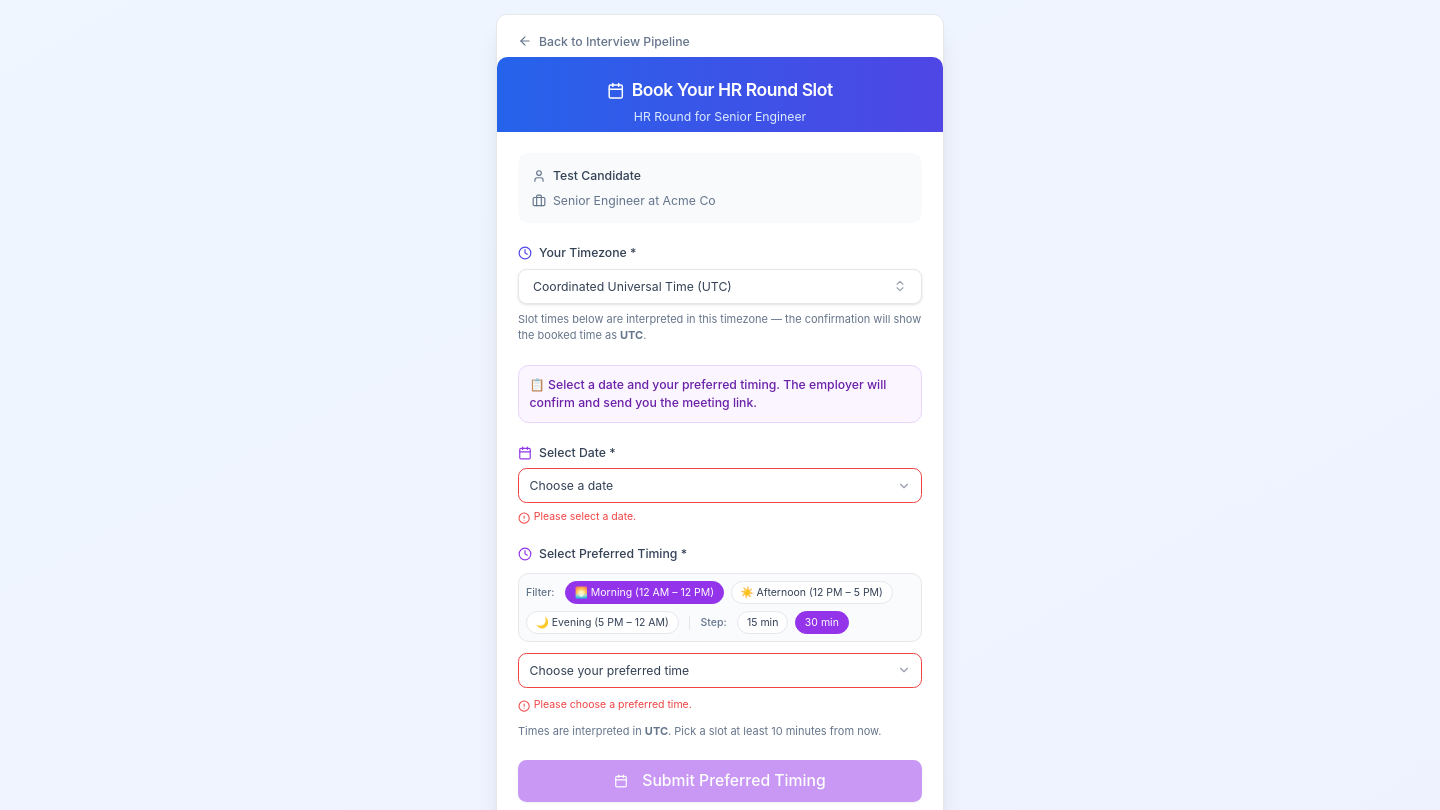
Test: BookSlot — multi-slot HR Round flow › requires a date and a single preferred timing, and shows it on the confirmation
This screenshot has width=1440, height=810.
Expected: the text "Book Your HR Round Slot" is shown, top-left (607, 79), bottom-right (833, 100)
Expected: the button "Submit Preferred Timing" is disabled, top-left (518, 760), bottom-right (922, 802)
Click the dropdown "Choose a date": [571, 486] box top-left (518, 468), bottom-right (922, 503)
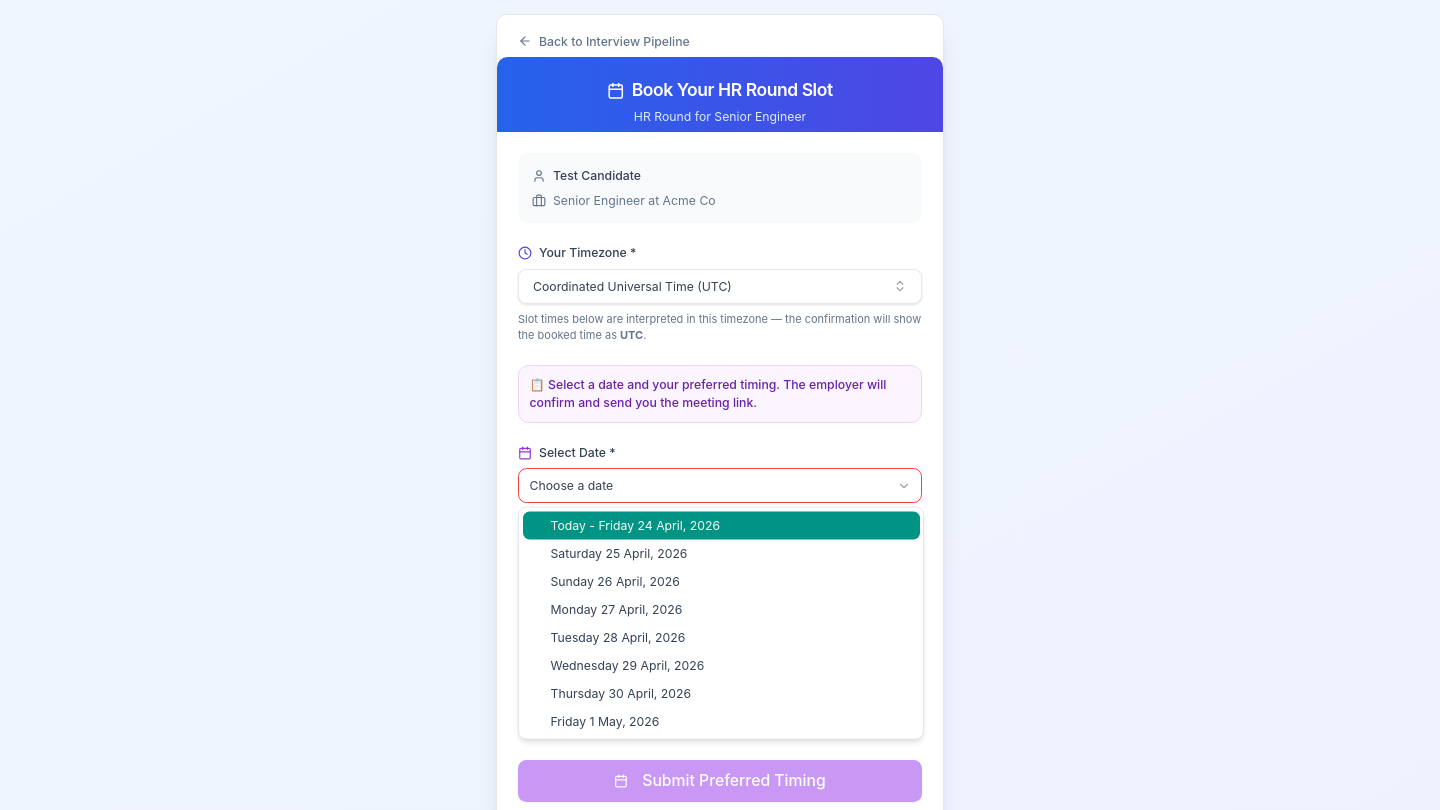
Click the option "Today - Friday 24 April, 2026": [721, 525] box top-left (522, 511), bottom-right (920, 539)
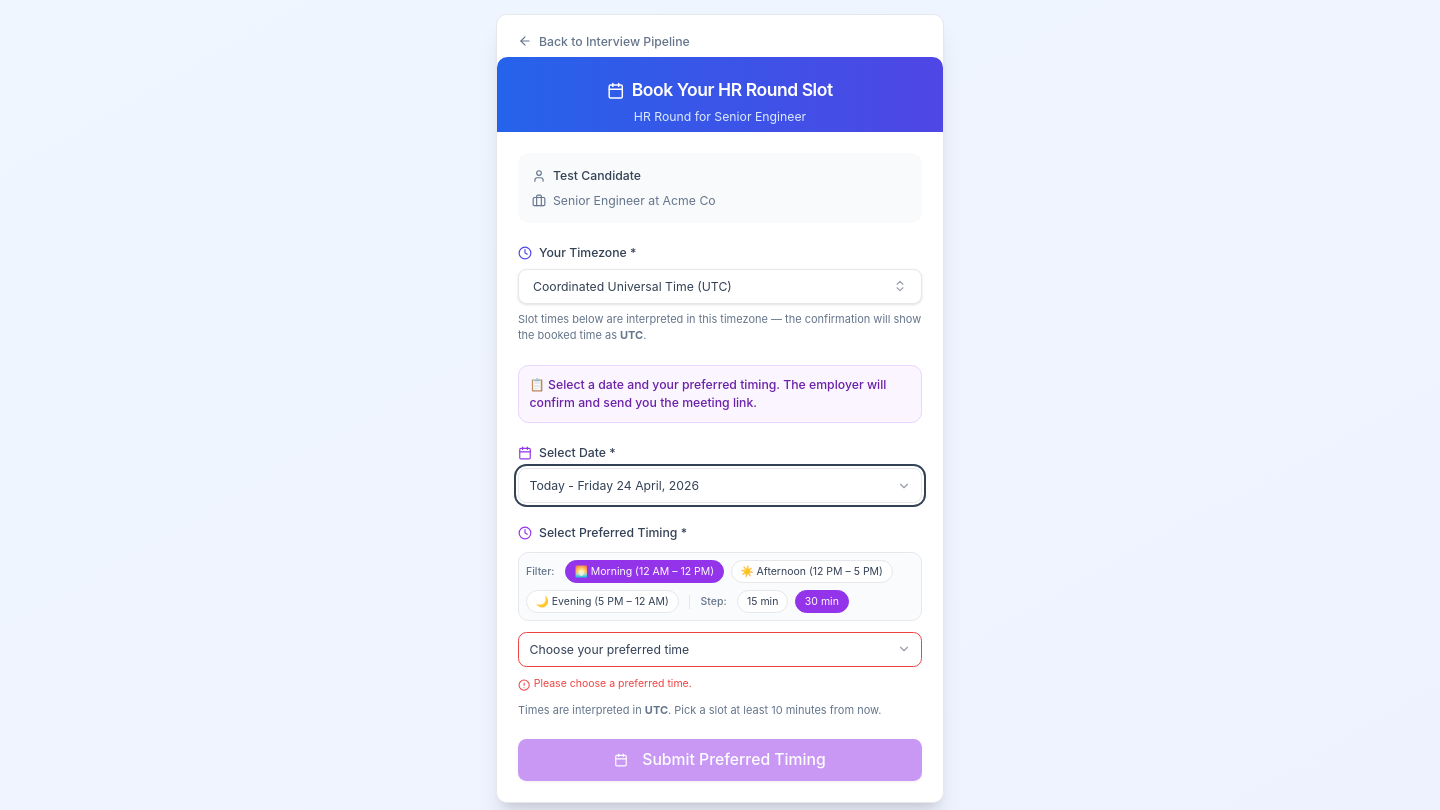
Click the dropdown "Choose your preferred time": [609, 649] box top-left (518, 632), bottom-right (922, 667)
(page scrolled)
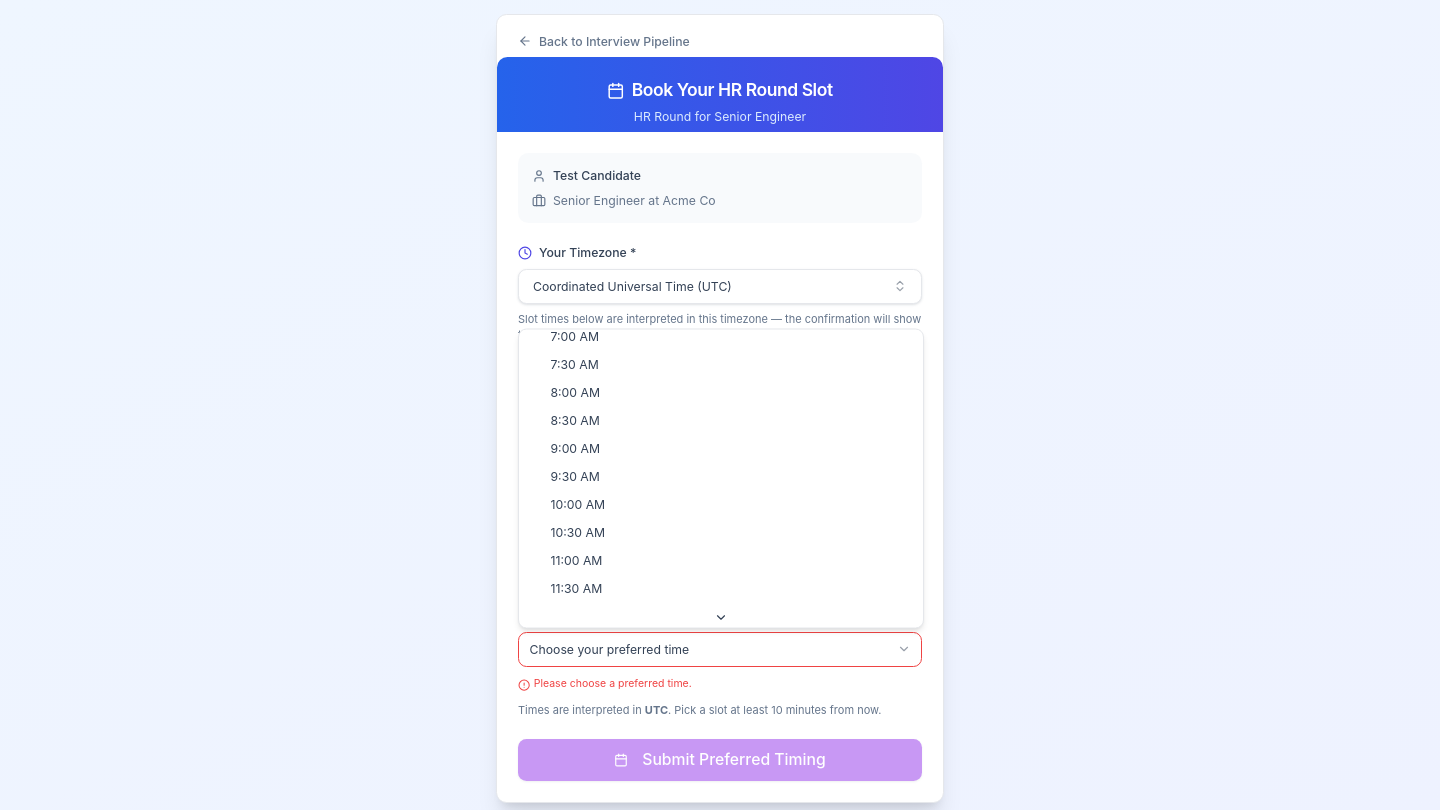
Click the option "11:00 AM": [576, 561] box top-left (550, 553), bottom-right (602, 568)
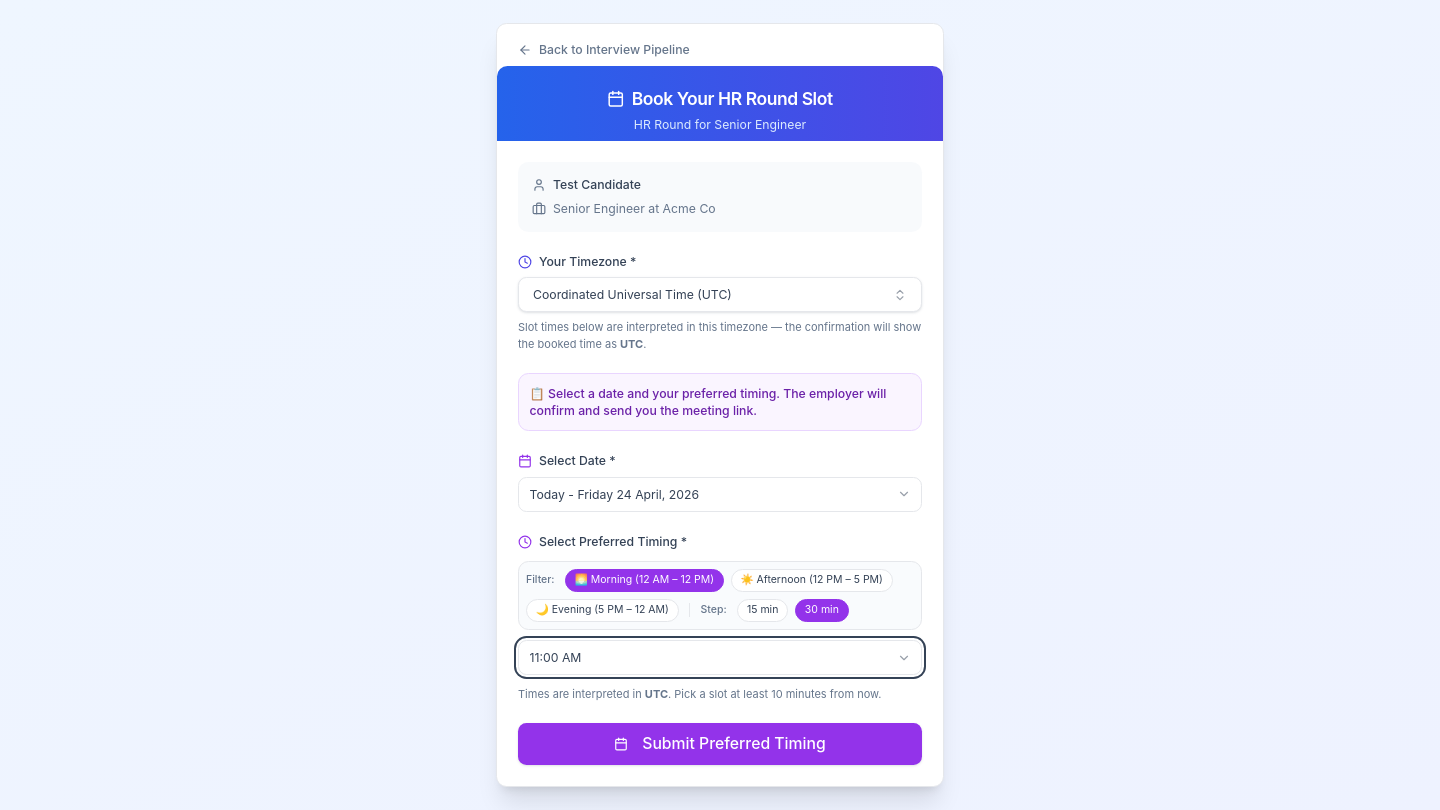
Expected: the button "Submit Preferred Timing" is enabled
Click the button "Submit Preferred Timing": [720, 744] box top-left (518, 723), bottom-right (922, 765)
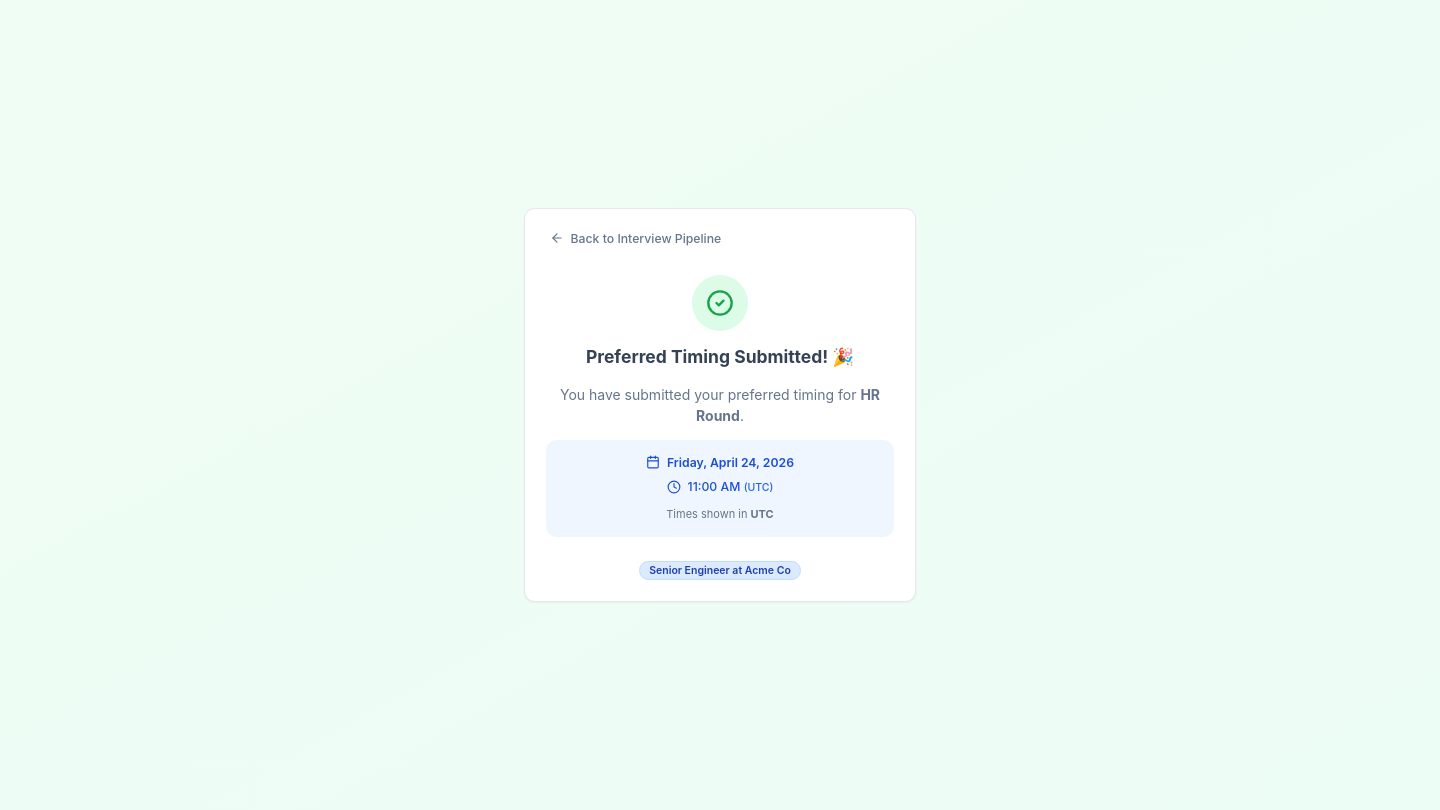
Expected: the heading "Preferred Timing Submitted! 🎉" is shown, top-left (586, 346), bottom-right (854, 367)
Expected: the text "11:00 AM" is shown, top-left (688, 479), bottom-right (740, 494)
